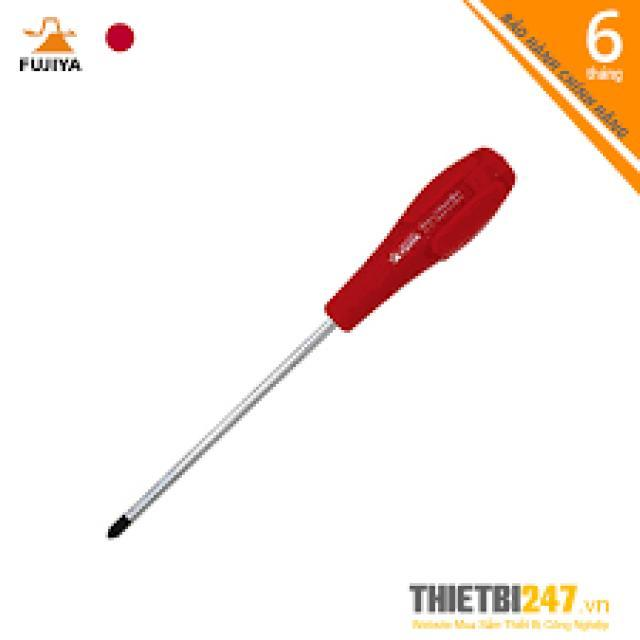screwdriver: (102, 145, 520, 543)
